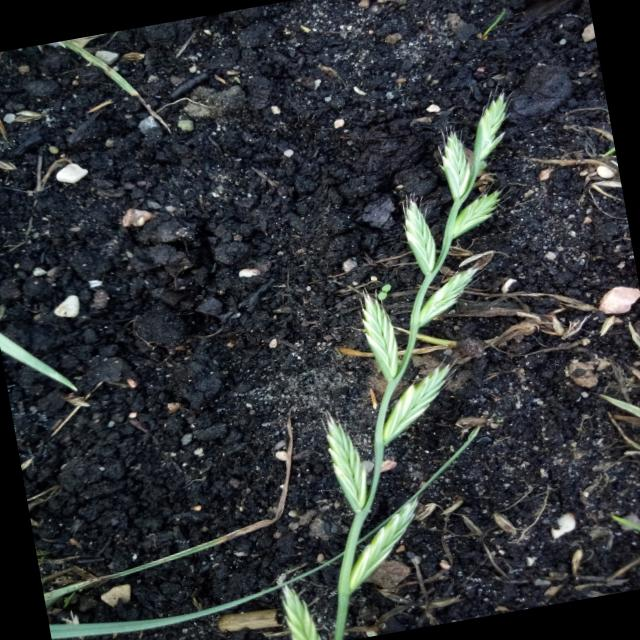Lolium: (237, 87, 601, 640)
